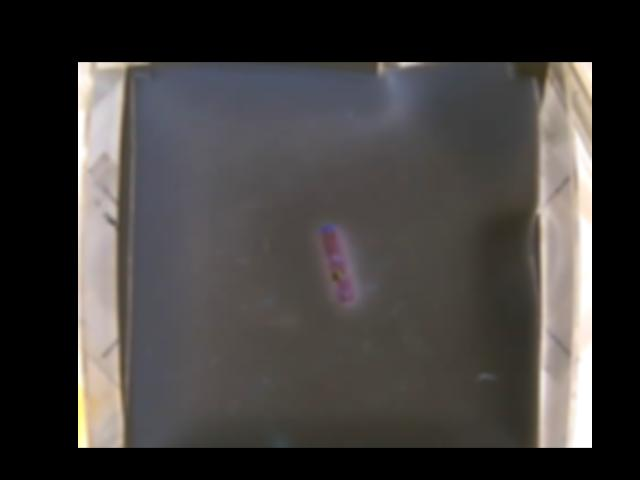Battery: (319, 224, 356, 304)
